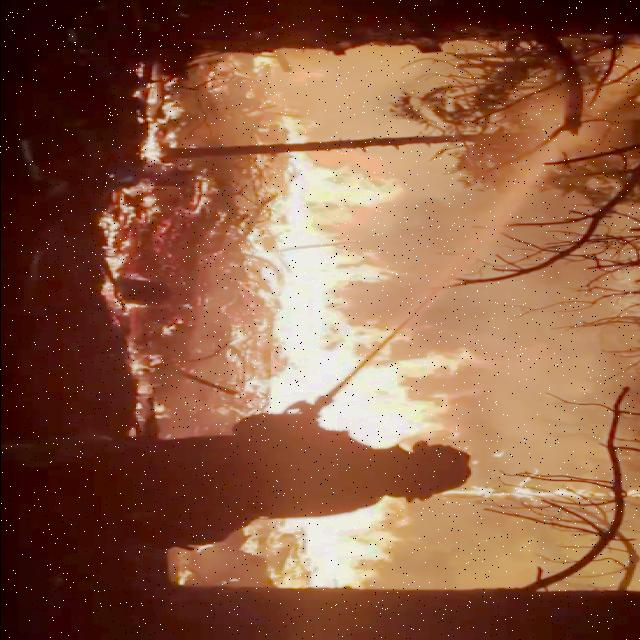api: (268, 154, 458, 426), (285, 514, 405, 594), (354, 417, 438, 443)
